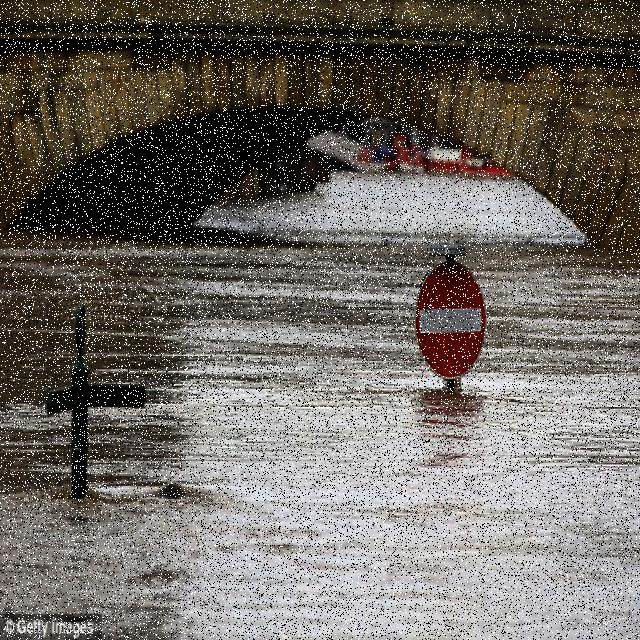no entry: (415, 262, 483, 378)
